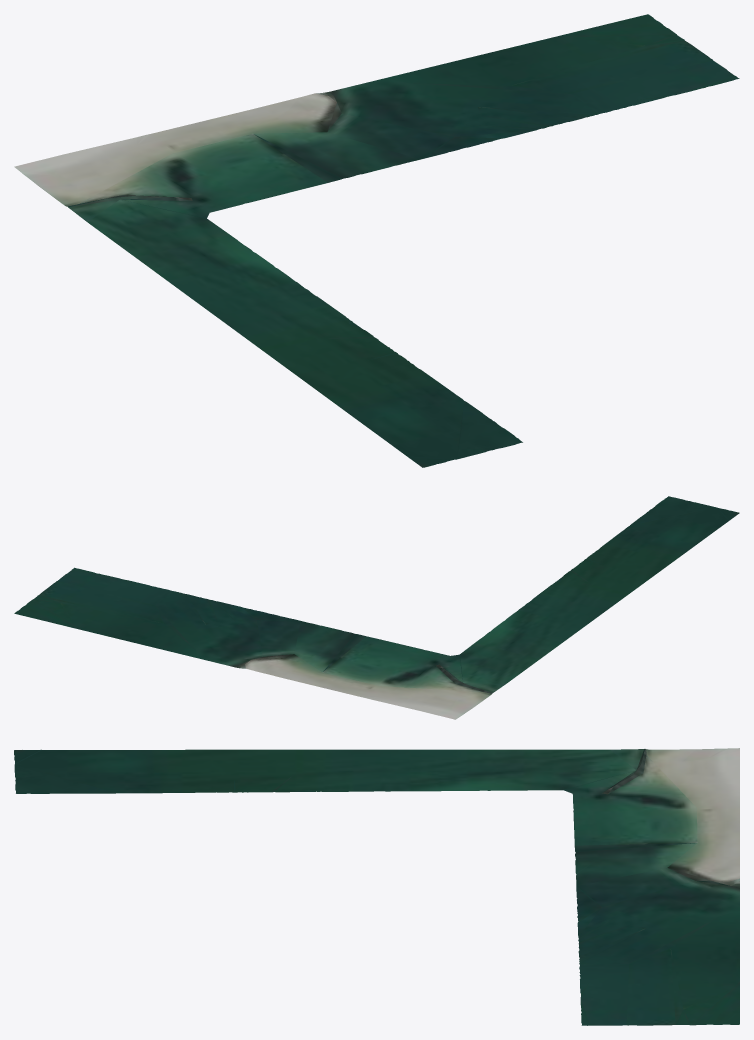
The picture shows the model from 3 angles, top to bottom: view 1: azimuth 30°, elevation 25°; view 2: azimuth 150°, elevation 25°; view 3: azimuth 270°, elevation 25°; orthographic projection. The views are drawn at different scales.
Bounding box in the file's own units: 1172 × 4.66 × 1304.
1 material, 1 textured.
